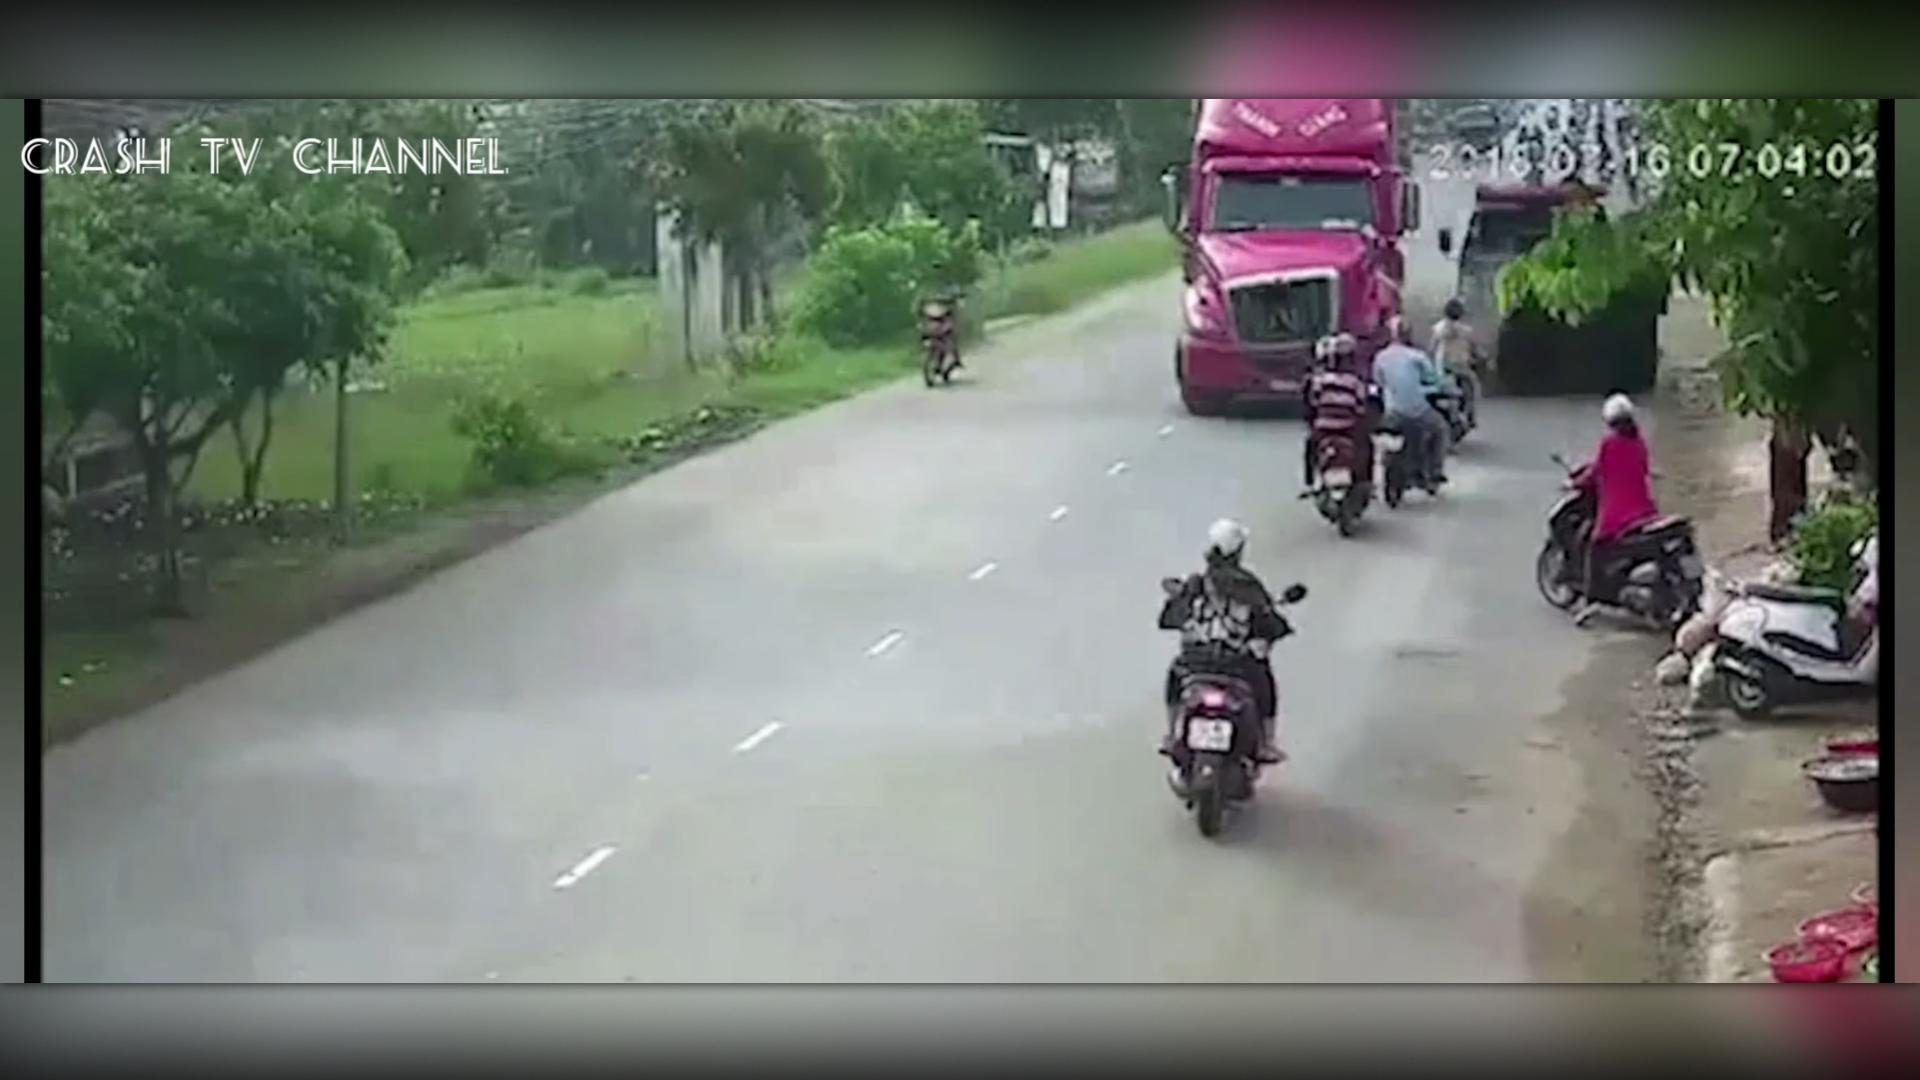motorcycle: (1129, 520, 1312, 837), (1519, 384, 1708, 658), (1286, 314, 1381, 537), (1367, 310, 1458, 512), (1414, 293, 1490, 425), (897, 270, 975, 388)
truck: (1162, 98, 1415, 401), (1452, 169, 1663, 388)
